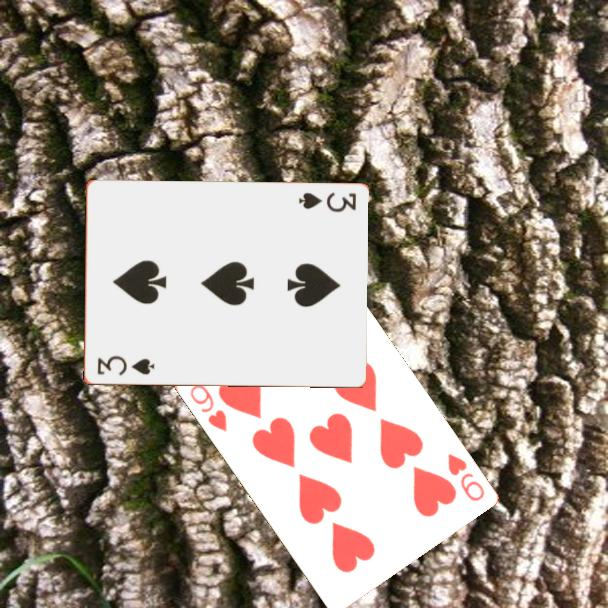h09: (186, 380, 230, 435), (444, 450, 487, 504)
s03: (94, 352, 157, 379), (295, 189, 359, 214)
